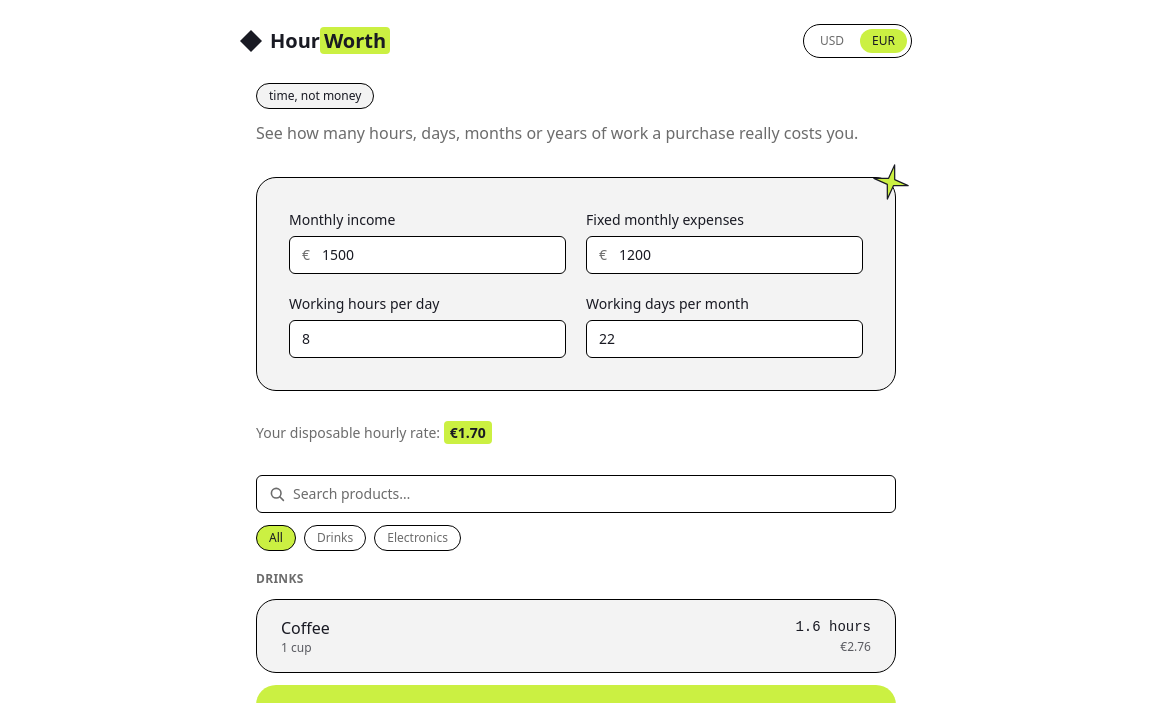
Test: App › switches to USD and converts the stored income amount, using real regional product prices
Check: the text "Coffee" is shown, box [281,616,330,640]
Click the button "USD" at (832, 41), box [808,29,856,53]
(page scrolled)
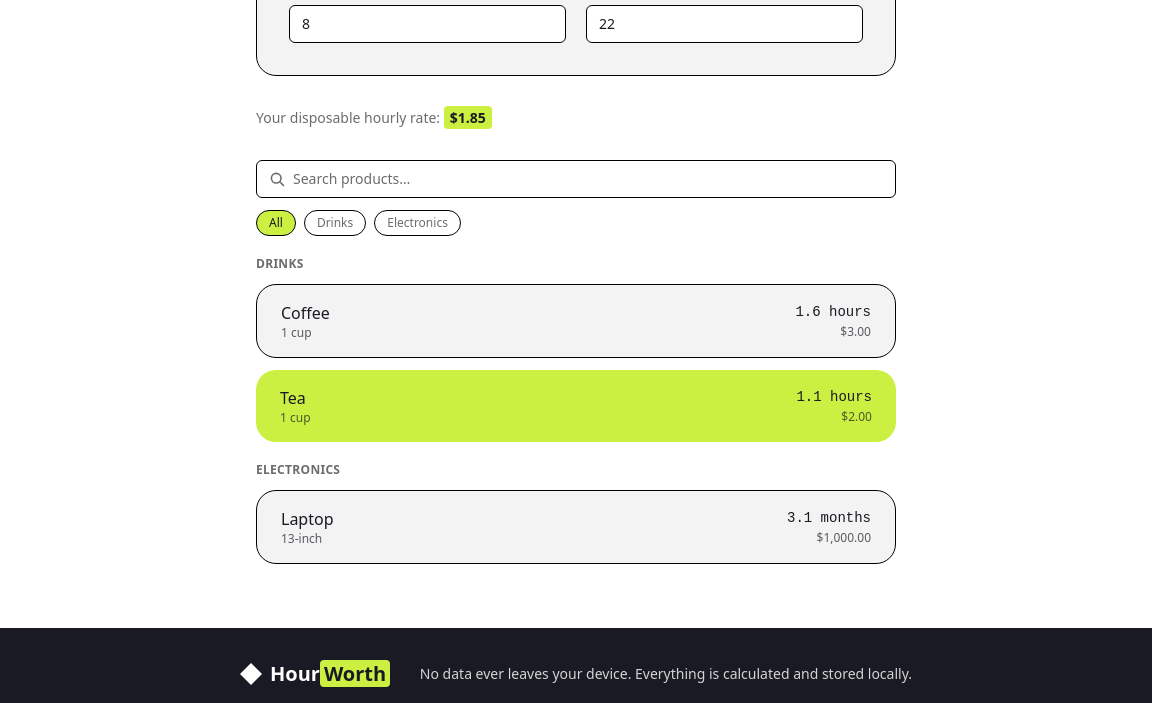
Check: the text "$1,000.00" is shown, box [816,530,871,546]
